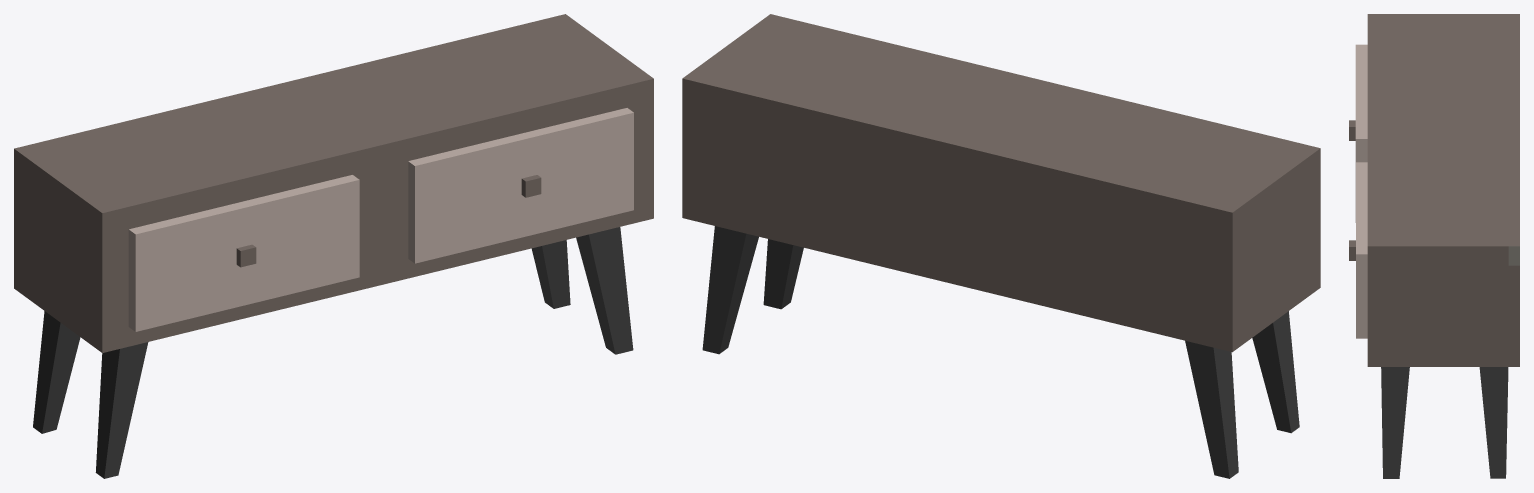
File: Sem_Kastje_Color.fbx
The picture shows the model from 3 angles, left to right: view 1: azimuth 30°, elevation 25°; view 2: azimuth 150°, elevation 25°; view 3: azimuth 270°, elevation 25°; orthographic projection. The views are drawn at different scales.
Visible parts, largest first — view 1: Kast_2; view 2: Kast_2; view 3: Kast_2.
Boxes of the visible parts, <box> form: Kast_2: <box>14,14,653,478</box>; Kast_2: <box>682,14,1320,478</box>; Kast_2: <box>1349,14,1519,478</box>.
Size of the model in its own units: 5.41 by 2.58 by 1.68.
